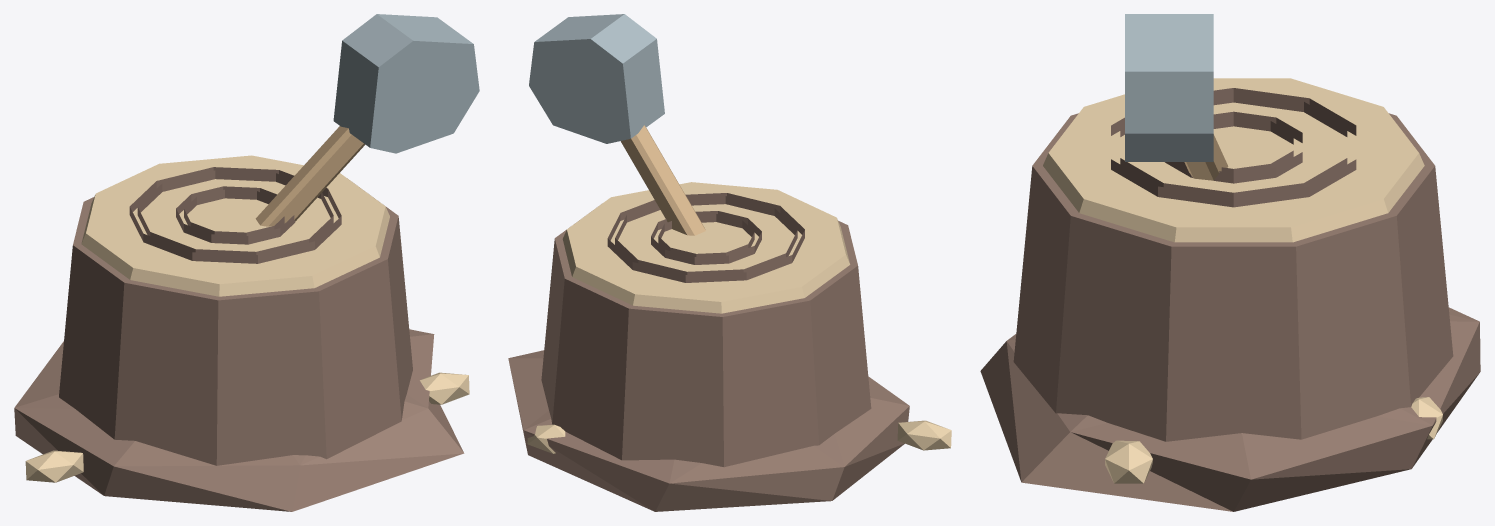
Rendered from world_stump_axe.fbx.
3 renders of one model, left to right at view 1: azimuth 30°, elevation 25°; view 2: azimuth 150°, elevation 25°; view 3: azimuth 270°, elevation 25°, orthographic. The views are drawn at different scales.
Visible parts, largest first — view 1: world_stump_axe_mesh; view 2: world_stump_axe_mesh; view 3: world_stump_axe_mesh.
Boxes of the visible parts, <box> form: world_stump_axe_mesh: <box>14,14,479,511</box>; world_stump_axe_mesh: <box>508,14,951,511</box>; world_stump_axe_mesh: <box>980,14,1480,511</box>.
Bounding box in the file's own units: 0.7657 × 0.635 × 0.6207.
